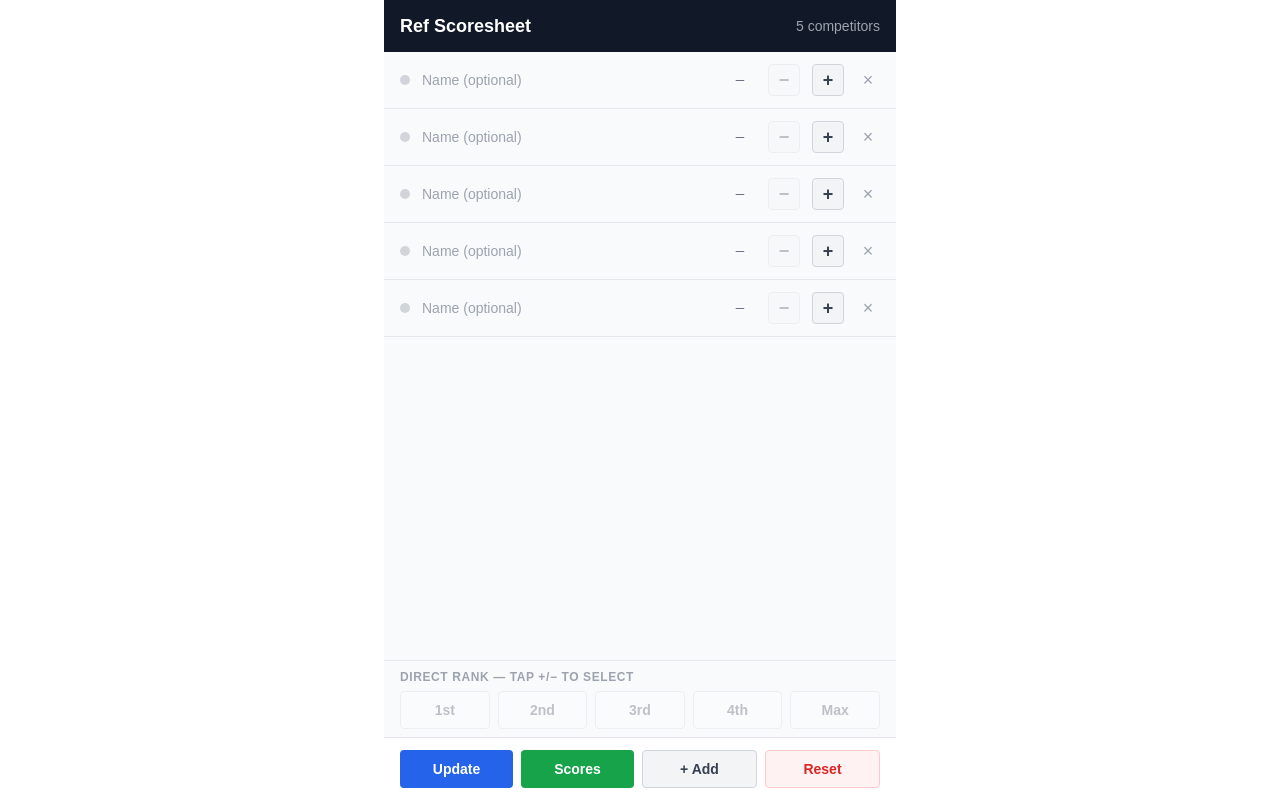
it: ScoresheetPage › Reset button shows confirmation dialog
Click the button "Reset" at (822, 769), box left=765, top=750, right=880, bottom=788
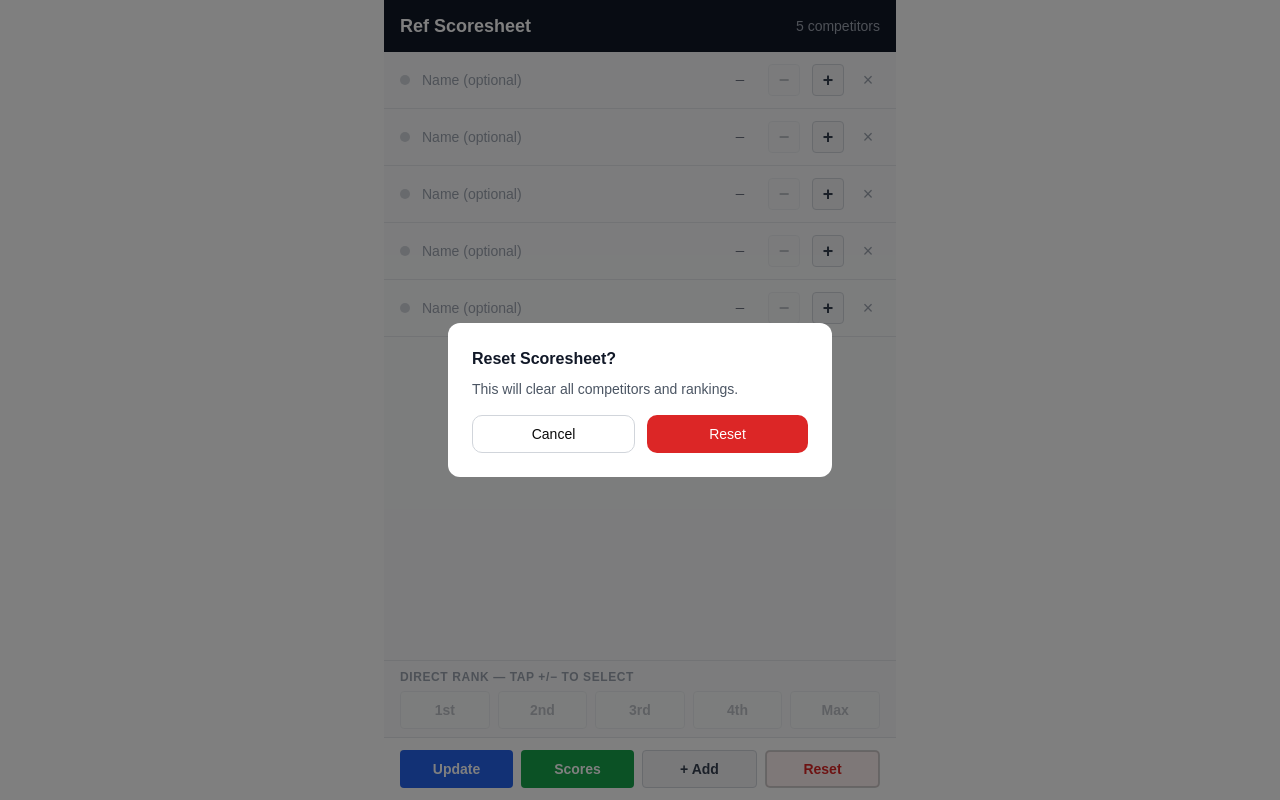
Expected: the heading "Reset Scoresheet?" is shown, left=472, top=350, right=616, bottom=367
